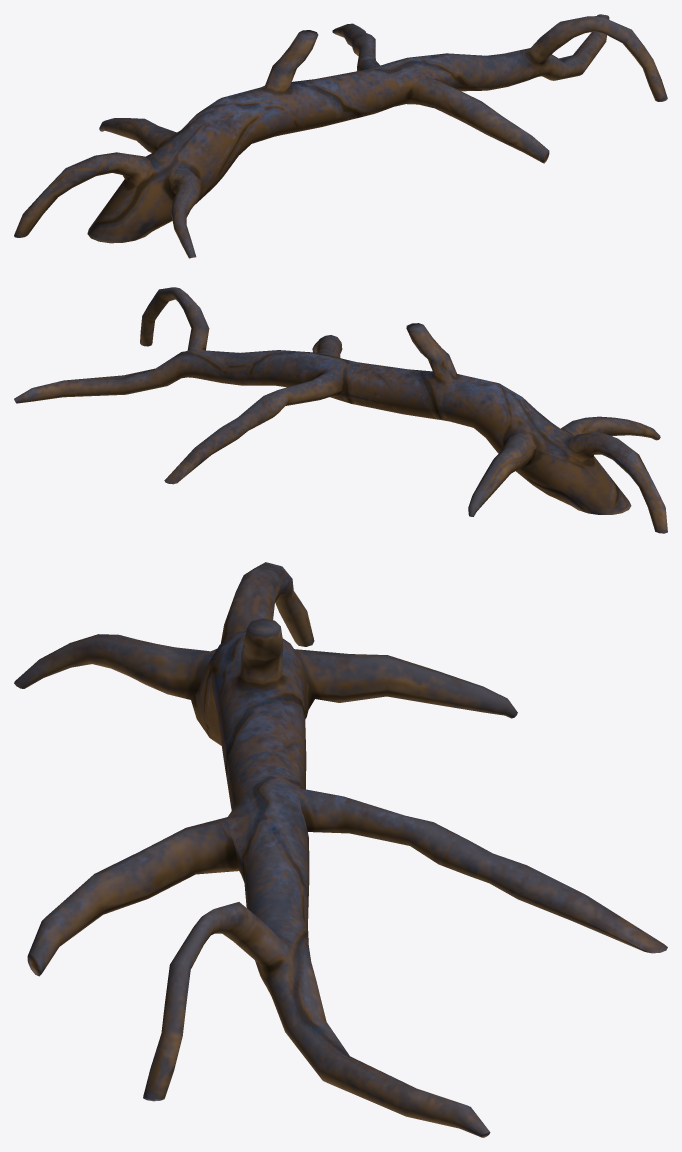
File: MarshLog_b01.fbx
3 views of the same model, one above another, from view 1: azimuth 30°, elevation 25°; view 2: azimuth 150°, elevation 25°; view 3: azimuth 270°, elevation 25° (orthographic). The views are drawn at different scales.
Parts seen in each view (by area): view 1: Log_b01; view 2: Log_b01; view 3: Log_b01.
Part boxes in pixels (left/top/right/bottom): Log_b01: left=14, top=14, right=667, bottom=258; Log_b01: left=14, top=287, right=667, bottom=533; Log_b01: left=14, top=562, right=667, bottom=1137.
Bounding box in the file's own units: 21.67 × 4.7 × 11.13.
